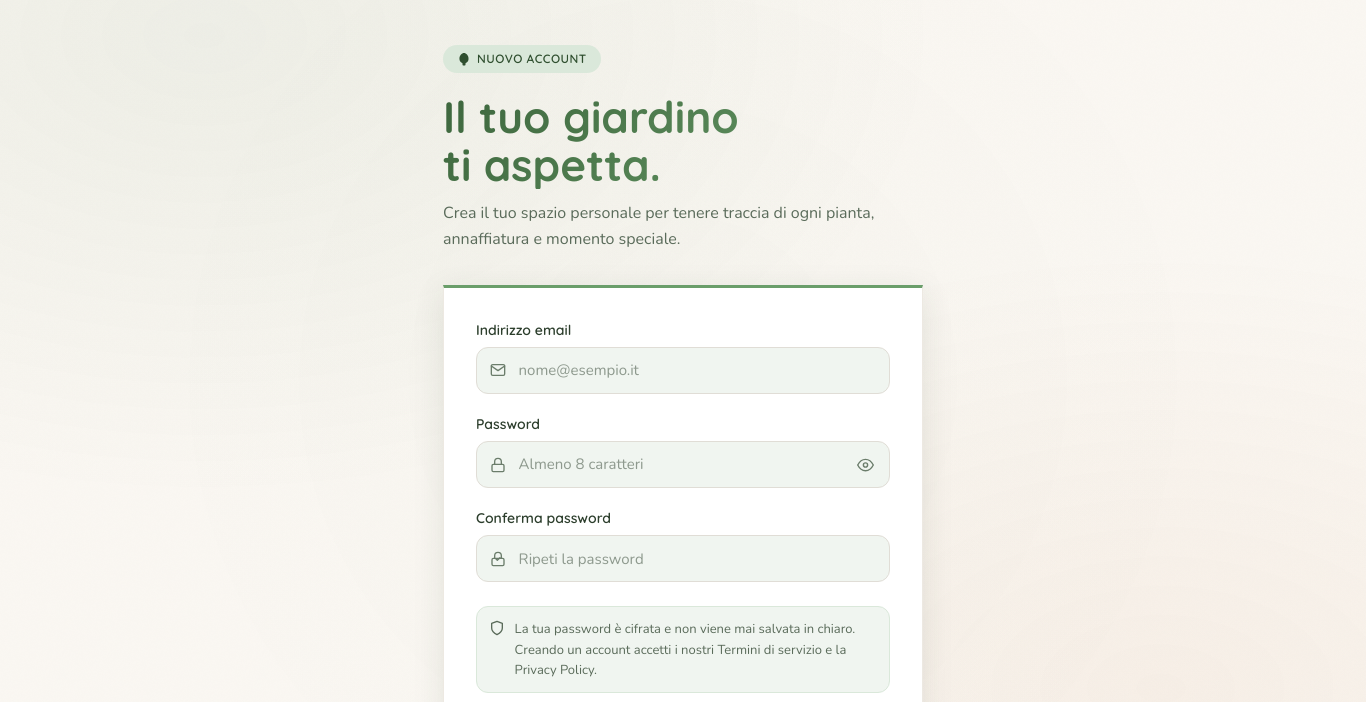
Test: PaginaRegistrazione › errore email già registrata › mostra il messaggio di errore quando il server risponde con status 409
Step 1. Type "esistente@esempio.it" into the field labelled "Indirizzo email" → (683, 370), box [476,347,890,394]
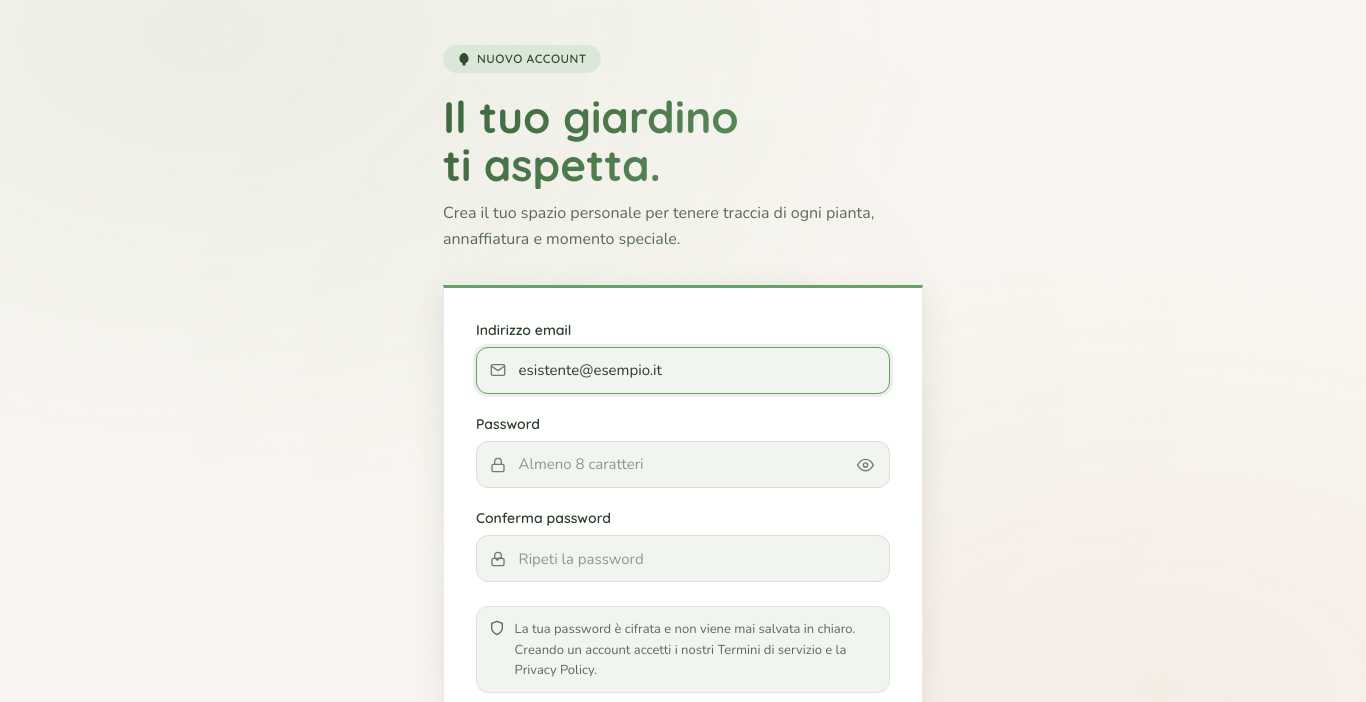
Step 2. Type "Password123!" into the password field labelled "Password" → (683, 465), box [476,441,890,488]
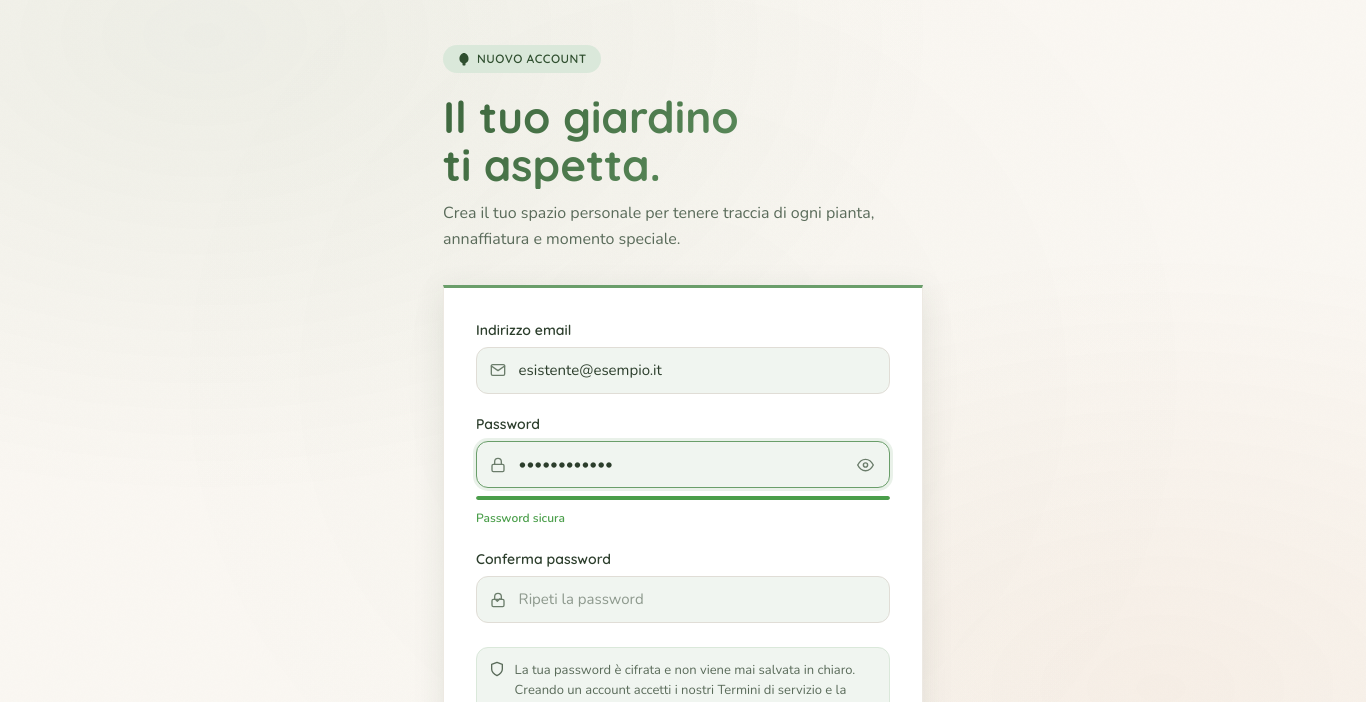
Step 3. Type "Password123!" into the password field labelled "Conferma password" → (683, 600), box [476,576,890,623]
(page scrolled)
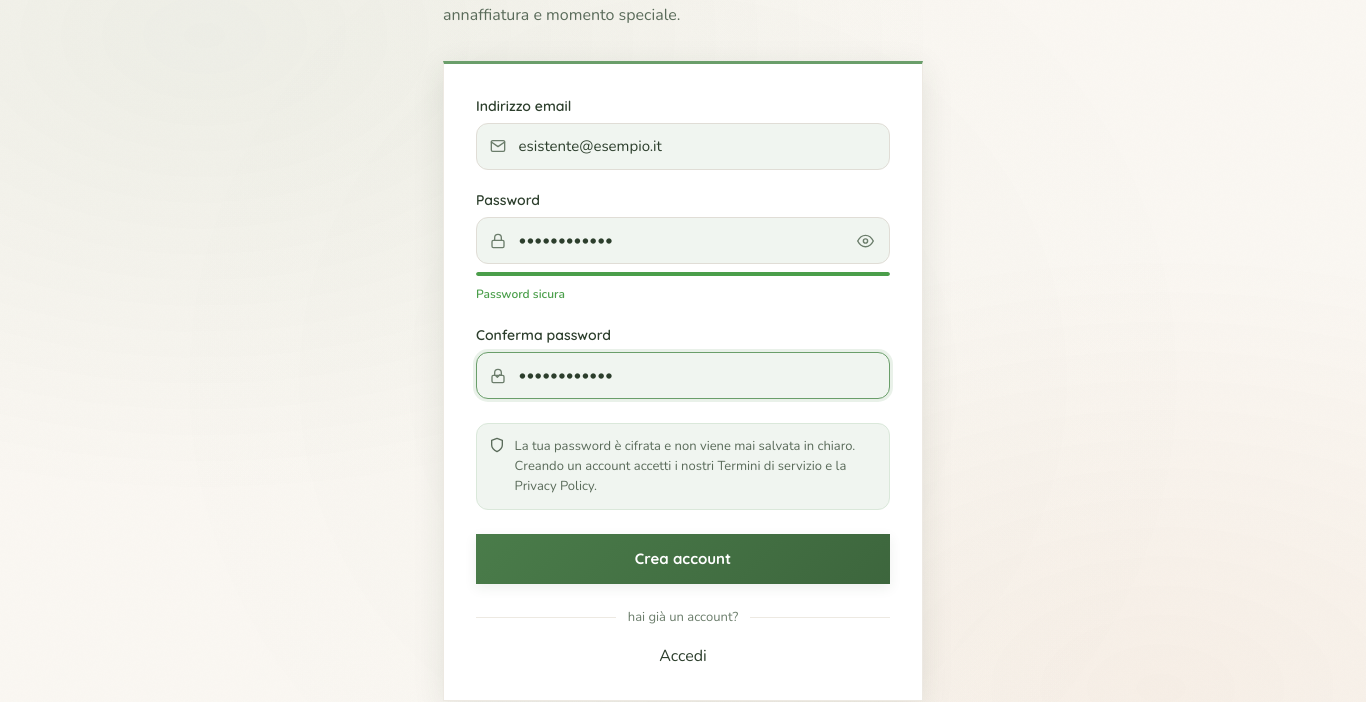
Step 4. Click the button "Crea account" → (683, 559), box [476,534,890,584]
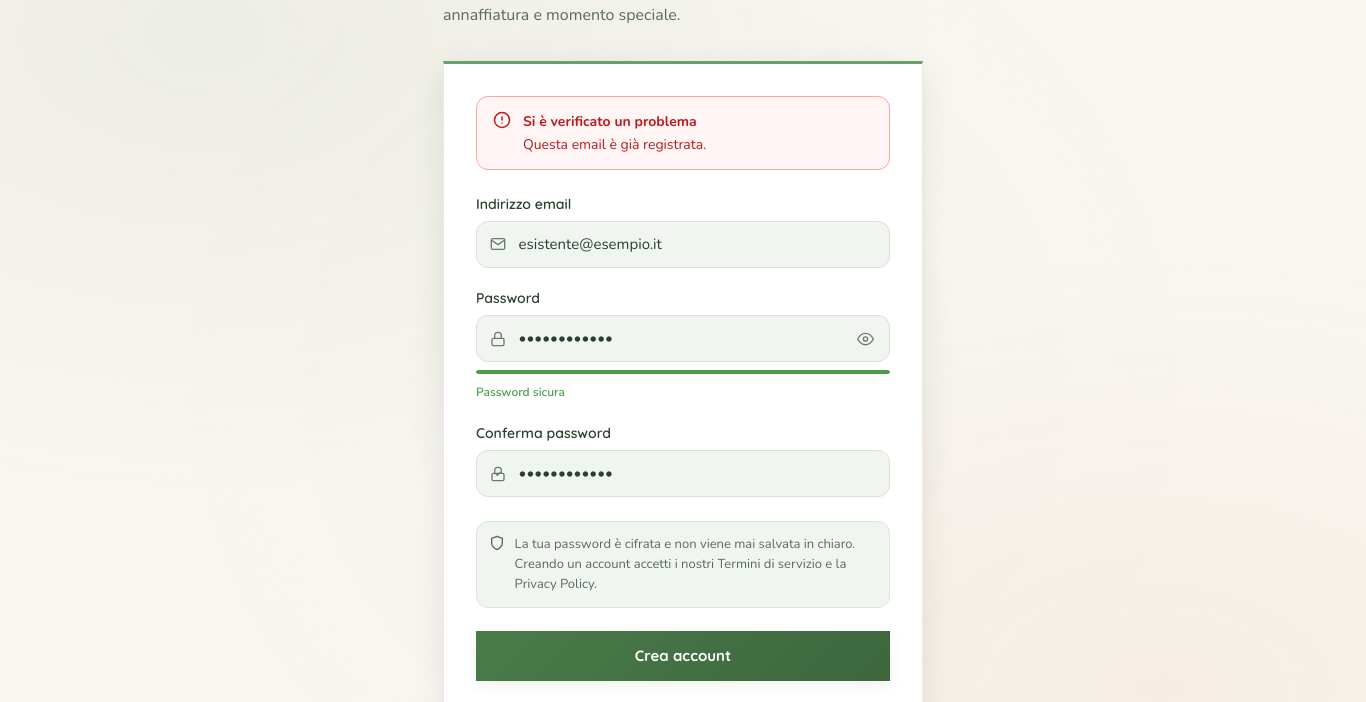
Expected: the text "Questa email è già registrata." is shown, [523,134,706,155]
